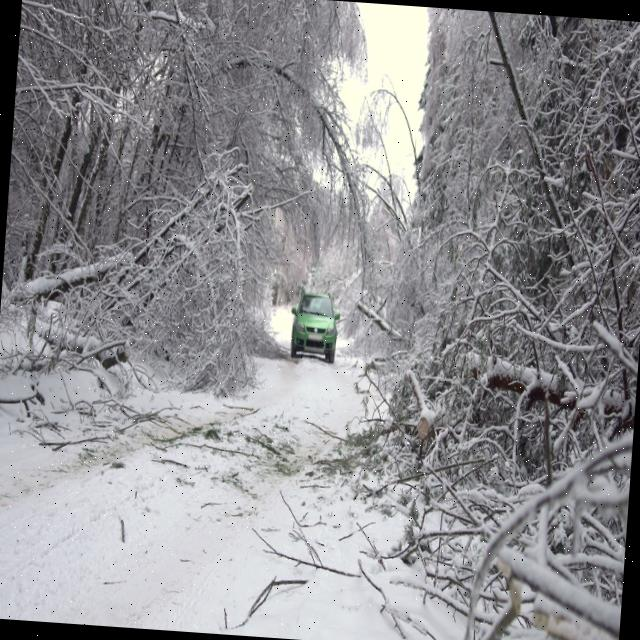car: (287, 288, 341, 362)
